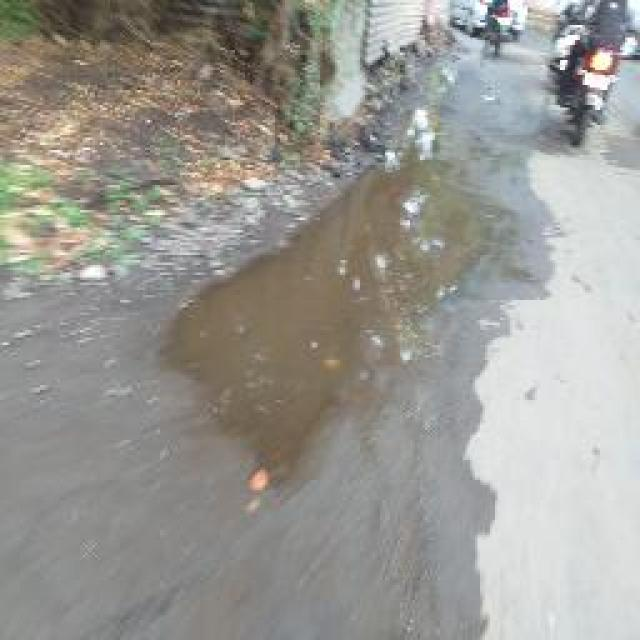stagnation: (120, 126, 546, 507)
